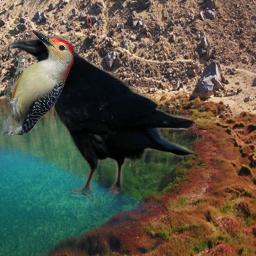Crow: (8, 34, 196, 204)
Woodpecker: (1, 30, 74, 135)
